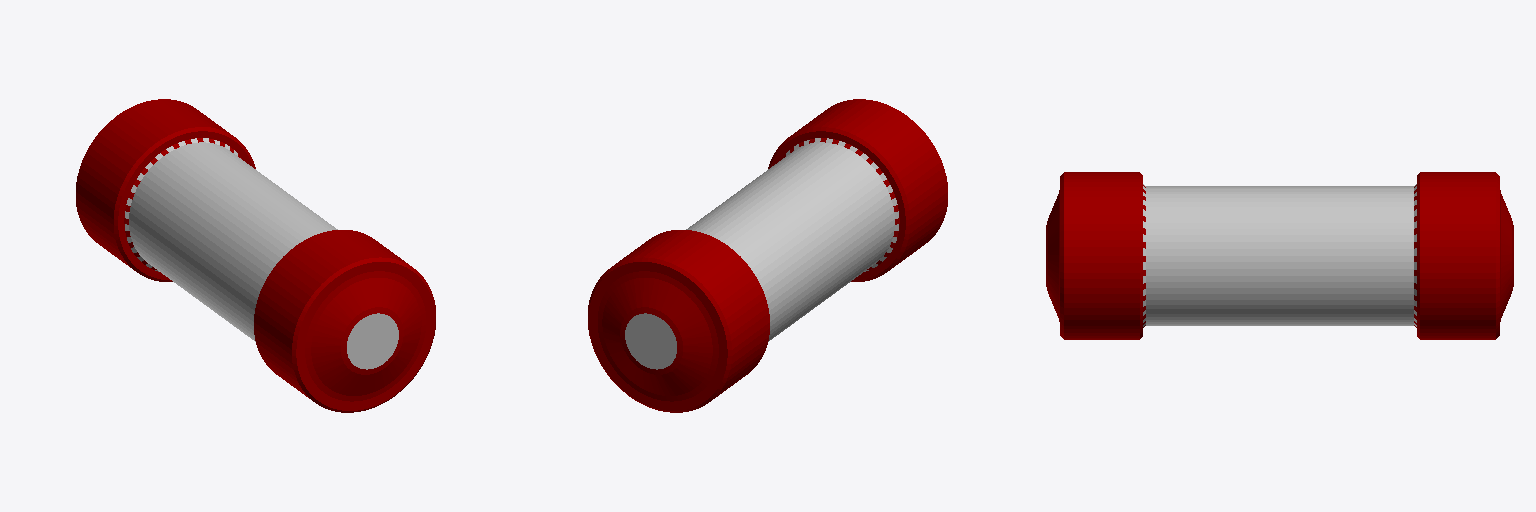
File: pad.obj
3 views of the same model, side by side, from view 1: azimuth 30°, elevation 25°; view 2: azimuth 150°, elevation 25°; view 3: azimuth 270°, elevation 25° (orthographic).
Visible parts, largest first — view 1: pad_Cylinder; view 2: pad_Cylinder; view 3: pad_Cylinder.
Boxes of the visible parts, x1,y1,x2,y2 form: pad_Cylinder: [76, 99, 435, 412]; pad_Cylinder: [588, 99, 947, 412]; pad_Cylinder: [1046, 172, 1513, 339].
Size of the model in its own units: 0.4184 by 0.4184 by 1.17.